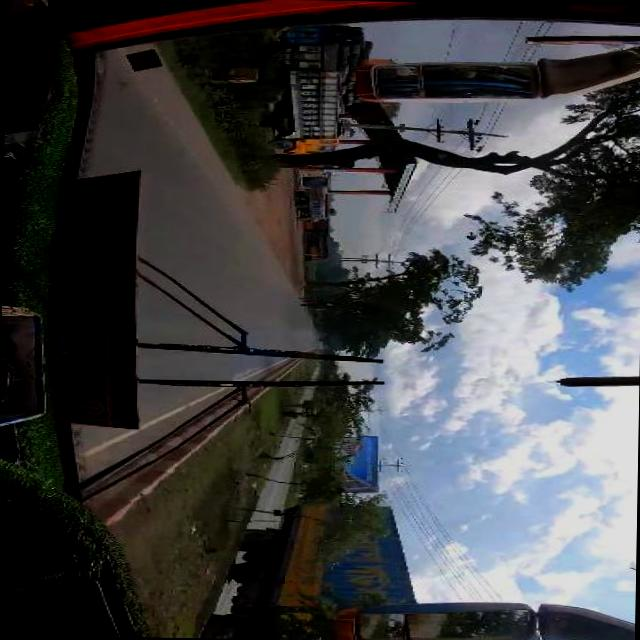truck: (206, 502, 416, 640), (268, 24, 354, 152), (295, 186, 328, 224)
